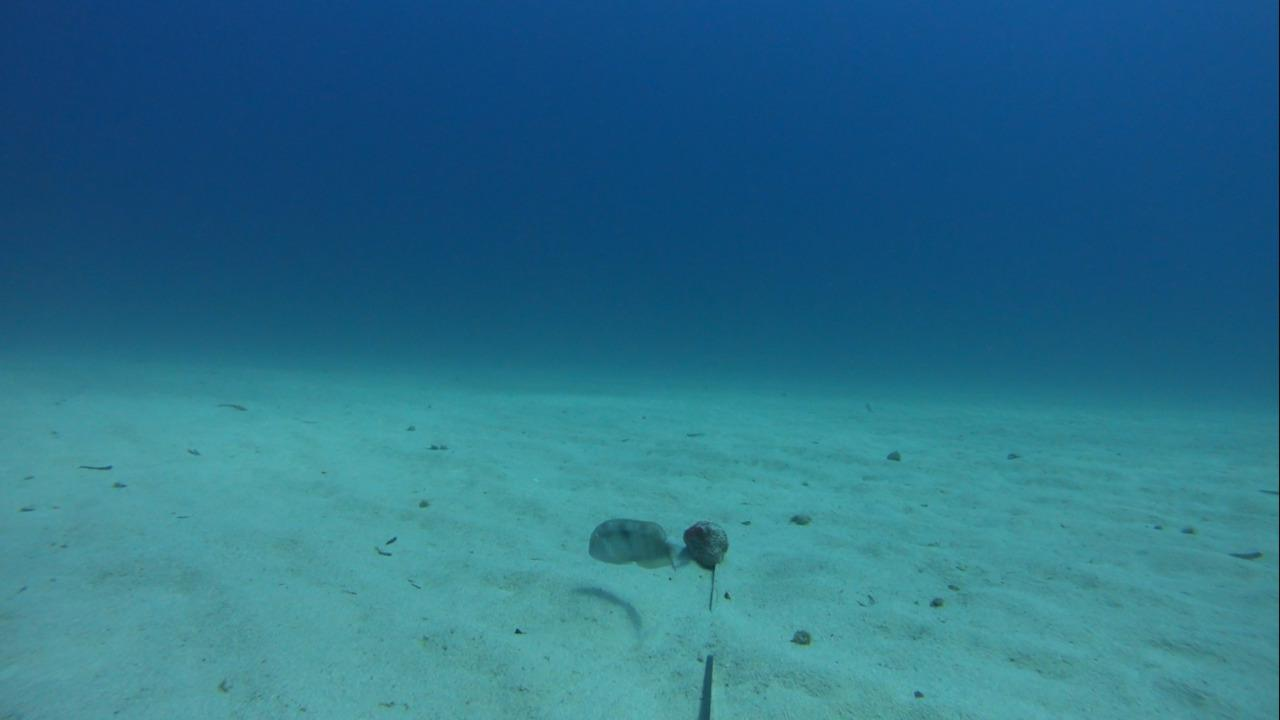raor: (582, 514, 689, 572)
